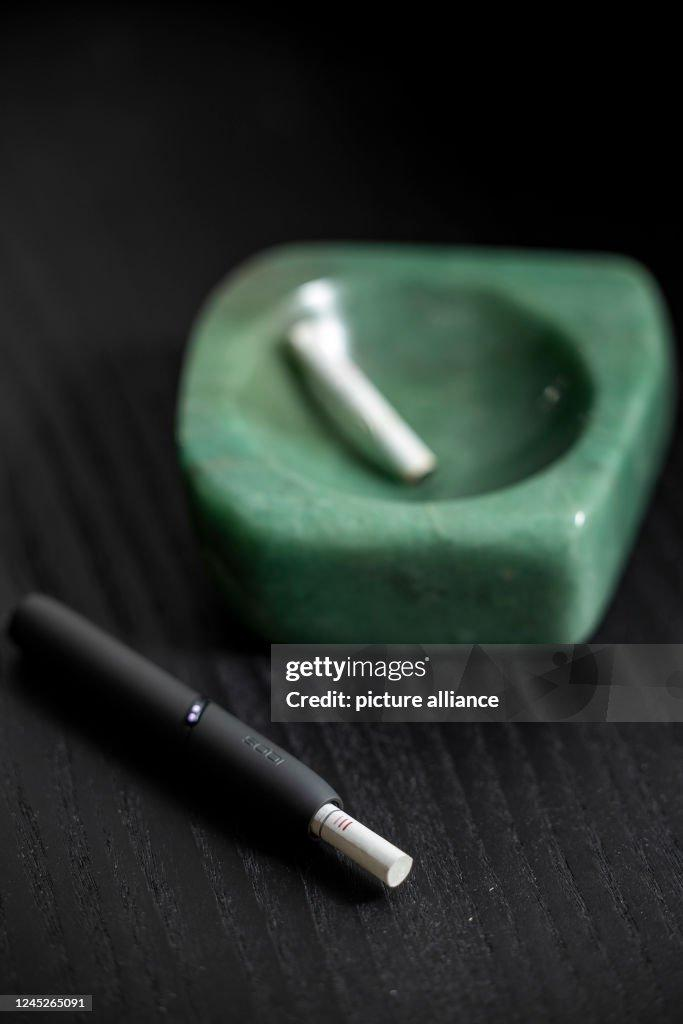iqos: (11, 597, 412, 888)
